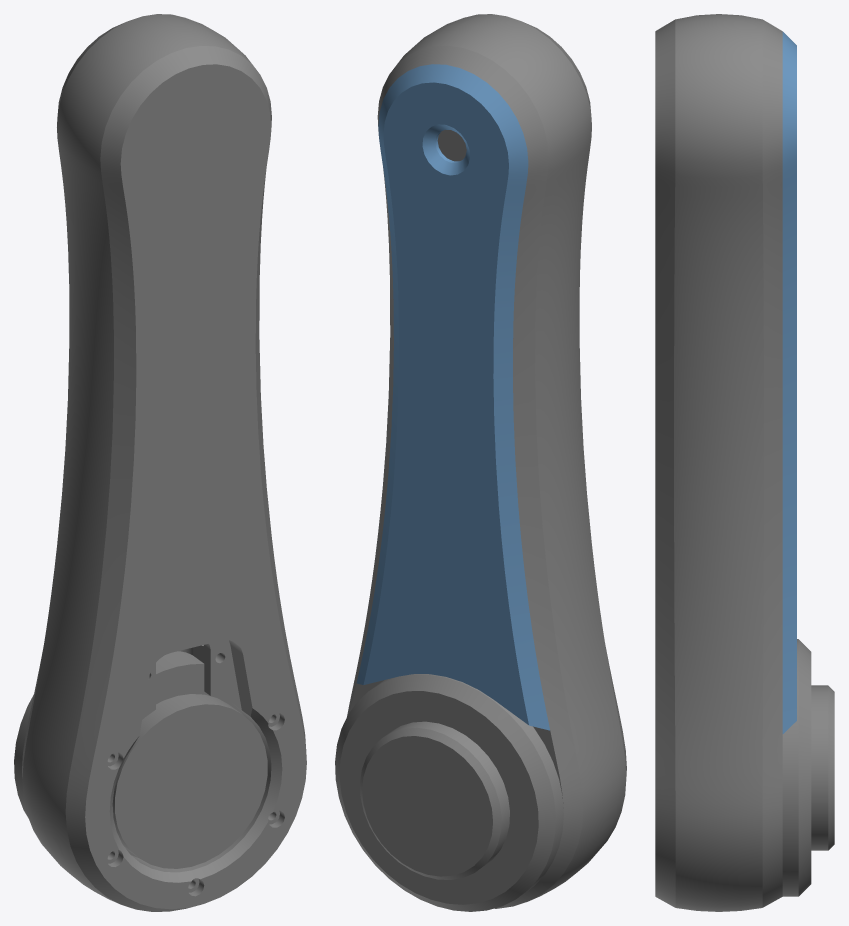
The model's file is calf_l.dae.
3 renders of one model, left to right at view 1: azimuth 30°, elevation 25°; view 2: azimuth 150°, elevation 25°; view 3: azimuth 270°, elevation 25°, orthographic.
Parts seen in each view (by area): view 1: calf_l; view 2: calf_l; view 3: calf_l.
Part boxes in pixels (left/top/right/bottom): calf_l: left=14, top=14, right=306, bottom=911; calf_l: left=335, top=14, right=626, bottom=911; calf_l: left=655, top=14, right=834, bottom=911.
Bounding box in the file's own units: 0.0904 × 0.0563 × 0.303.
